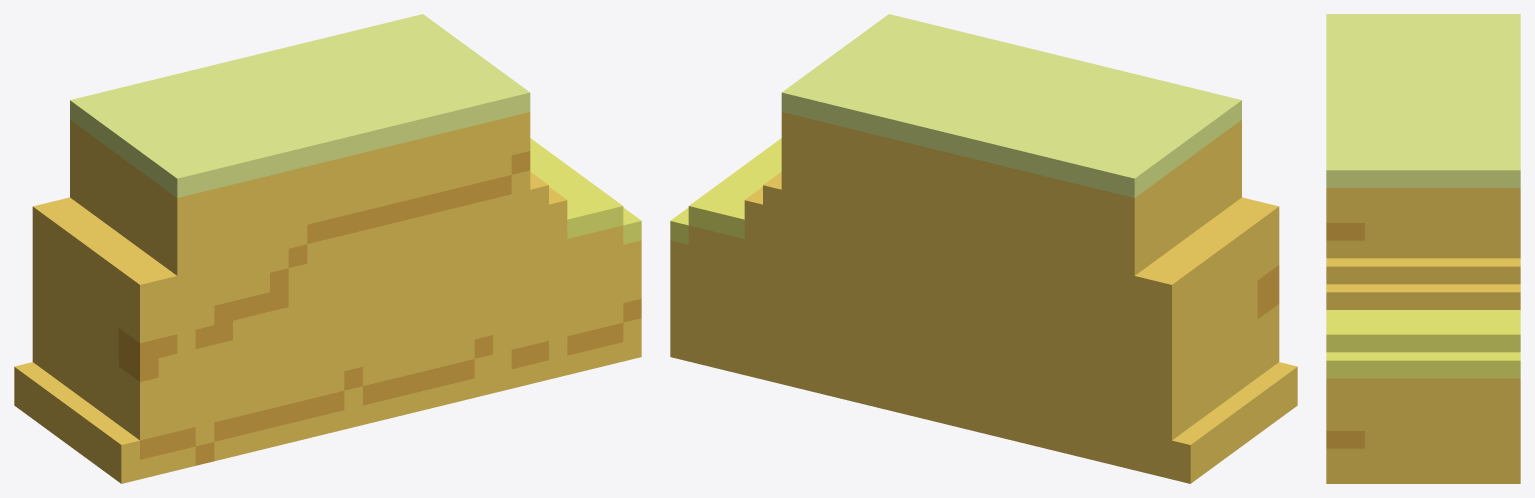
File: shanti4.obj
3 views of the same model, side by side, from view 1: azimuth 30°, elevation 25°; view 2: azimuth 150°, elevation 25°; view 3: azimuth 270°, elevation 25° (orthographic). The views are drawn at different scales.
Size of the model in its own units: 28 by 15 by 10.
1 material, 1 textured.
